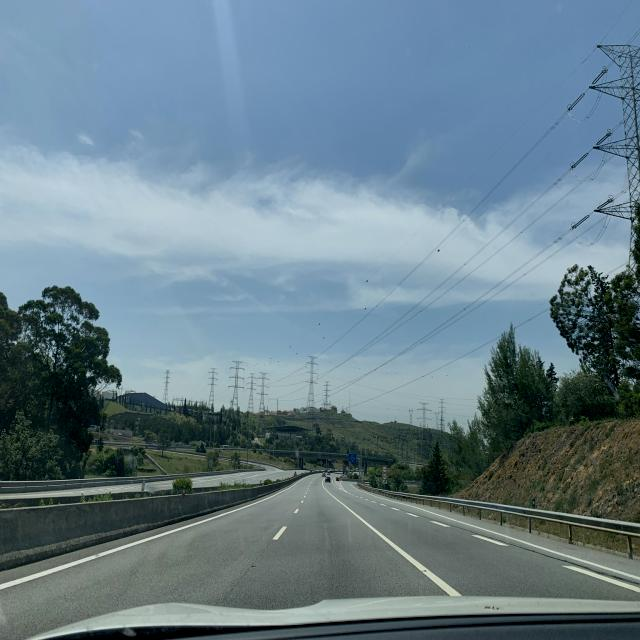car: (324, 473, 332, 483)
